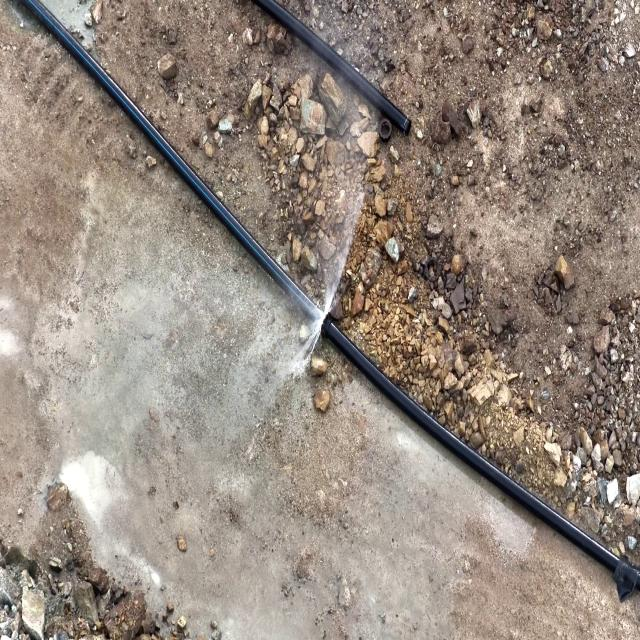leak: (284, 195, 365, 374)
